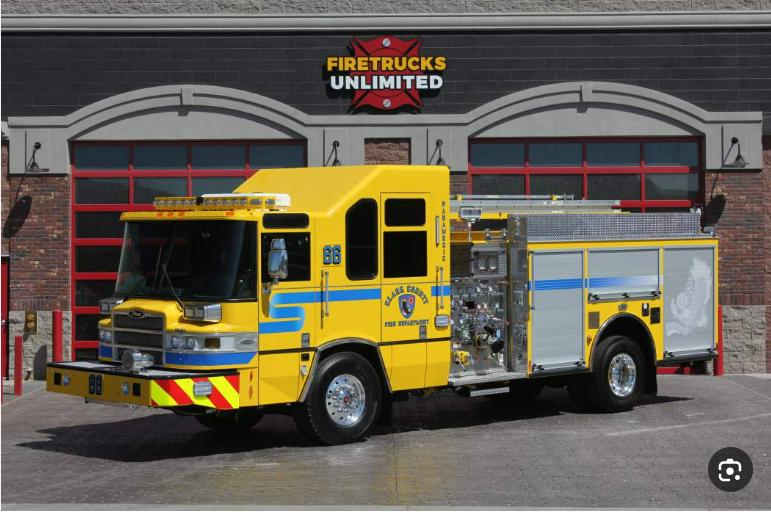firetruck_off: (47, 167, 717, 454)
